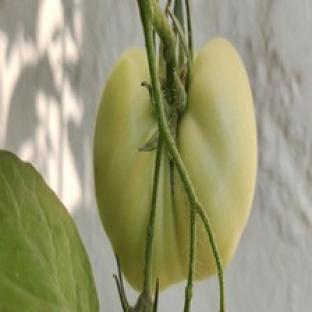Tomato: (94, 49, 157, 289)
